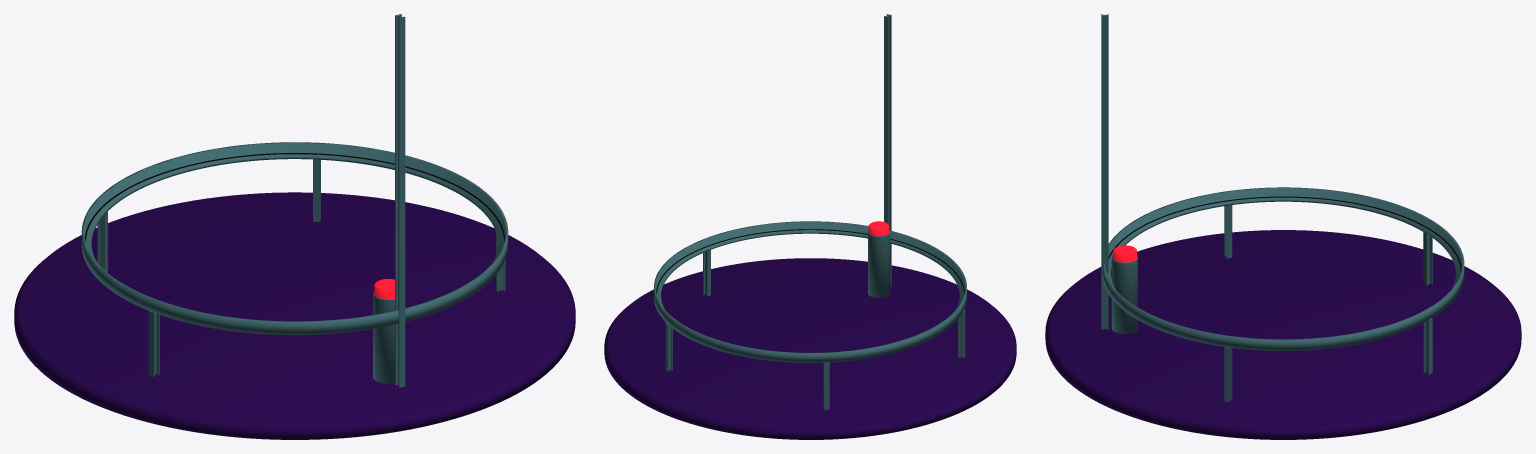
File: platform.gltf
3 renders of one model, left to right at view 1: azimuth 30°, elevation 25°; view 2: azimuth 150°, elevation 25°; view 3: azimuth 270°, elevation 25°, orthographic. The views are drawn at different scales.
Parts seen in each view (by area): view 1: Platform, Tray, Main Support, Button Support, Projector, Small Support, Small Support.002; view 2: Platform, Tray, Main Support, Button Support, Projector; view 3: Platform, Tray, Main Support, Button Support, Projector, Small Support.003, Small Support.002, Small Support.001, Small Support.
Boxes of the visible parts, x1,y1,x2,y2 form: Platform: [14, 192, 575, 439]; Tray: [81, 142, 508, 335]; Main Support: [395, 14, 405, 387]; Button Support: [373, 291, 394, 383]; Projector: [85, 153, 504, 241]; Small Support: [148, 310, 159, 376]; Small Support.002: [97, 211, 107, 272]; Platform: [604, 258, 1016, 439]; Tray: [654, 221, 966, 362]; Main Support: [884, 14, 891, 286]; Button Support: [868, 230, 890, 297]; Projector: [656, 229, 964, 294]; Platform: [1045, 230, 1521, 439]; Tray: [1102, 187, 1464, 350]; Main Support: [1101, 14, 1108, 329]; Button Support: [1111, 255, 1137, 333]; Projector: [1108, 196, 1461, 271]; Small Support.003: [1423, 318, 1432, 374]; Small Support.002: [1423, 232, 1432, 285]; Small Support.001: [1224, 346, 1232, 401]; Small Support: [1224, 205, 1232, 258].
Bounding box in the file's own units: 4 × 3.05 × 4.
